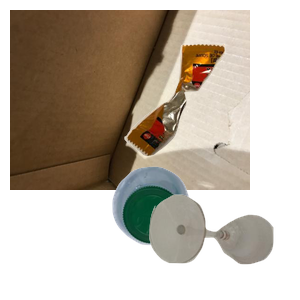cardboard: (10, 10, 250, 190)
glass: (147, 192, 300, 300)
plastic: (110, 164, 300, 300)
trash: (122, 41, 300, 190)
